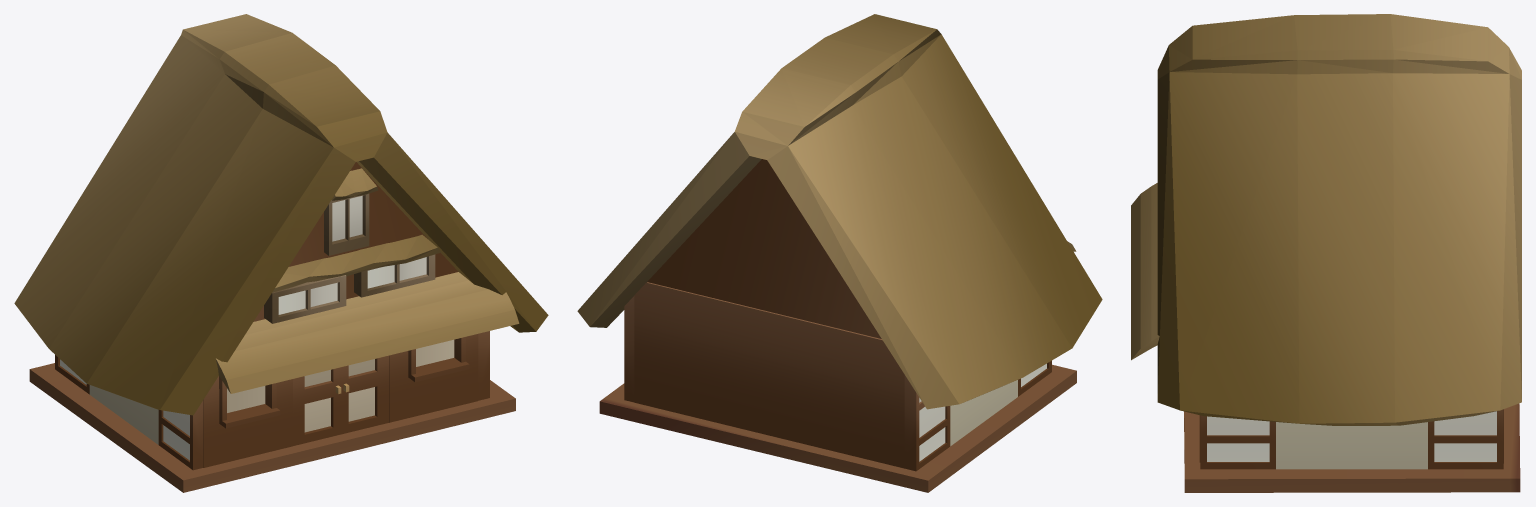
File: House_Farmhouse.fbx
3 renders of one model, left to right at view 1: azimuth 30°, elevation 25°; view 2: azimuth 150°, elevation 25°; view 3: azimuth 270°, elevation 25°, orthographic. The views are drawn at different scales.
Visible parts, largest first — view 1: Farmhouse_RoofOnly.001, Farmhouse_LowerRoof.001, Farmhouse_DoorFrame.001, Farmhouse_Base.001, Farmhouse_2xWindows.001, Farmhouse_Gable.002, Farmhouse_Window.001, Farmhouse_Door_L.001, Farmhouse_Door_R.001, Farmhouse_Wall_1m.003, House_Wall_2m_White.005, Farmhouse_Wall_1m.001; view 2: Farmhouse_RoofOnly.001, Farmhouse_Wall_4m.001, Farmhouse_Gable.003, Farmhouse_Base.001, Farmhouse_Wall_1m.002, House_Wall_2m_White.005, Farmhouse_Wall_1m.004; view 3: Farmhouse_RoofOnly.001, Farmhouse_Base.001, House_Wall_2m_White.004, Farmhouse_LowerRoof.001, Farmhouse_Wall_1m.004, Farmhouse_Wall_1m.001.
Part boxes in pixels (x1,y1,x2,y2): Farmhouse_RoofOnly.001: (14,14,548,415); Farmhouse_LowerRoof.001: (215,272,519,393); Farmhouse_DoorFrame.001: (203,334,478,467); Farmhouse_Base.001: (29,363,515,492); Farmhouse_2xWindows.001: (264,234,441,323); Farmhouse_Gable.002: (253,162,458,321); Farmhouse_Window.001: (324,168,378,255); Farmhouse_Door_L.001: (293,367,341,445); Farmhouse_Door_R.001: (341,355,388,434); Farmhouse_Wall_1m.003: (158,400,203,470); House_Wall_2m_White.005: (89,385,158,444); Farmhouse_Wall_1m.001: (478,331,489,400); Farmhouse_RoofOnly.001: (577,14,1102,409); Farmhouse_Wall_4m.001: (634,282,904,468); Farmhouse_Gable.003: (647,159,881,338); Farmhouse_Base.001: (599,364,1076,492); Farmhouse_Wall_1m.002: (904,375,950,471); House_Wall_2m_White.005: (950,380,1017,446); Farmhouse_Wall_1m.004: (624,296,634,402); Farmhouse_RoofOnly.001: (1157,14,1521,425); Farmhouse_Base.001: (1184,403,1520,492); House_Wall_2m_White.004: (1276,422,1427,469); Farmhouse_LowerRoof.001: (1131,183,1159,360); Farmhouse_Wall_1m.004: (1428,409,1503,469); Farmhouse_Wall_1m.001: (1200,415,1275,469).
Size of the model in its own units: 7.12 by 5.44 by 5.15.
Materials: 1 (1 with a texture image).
